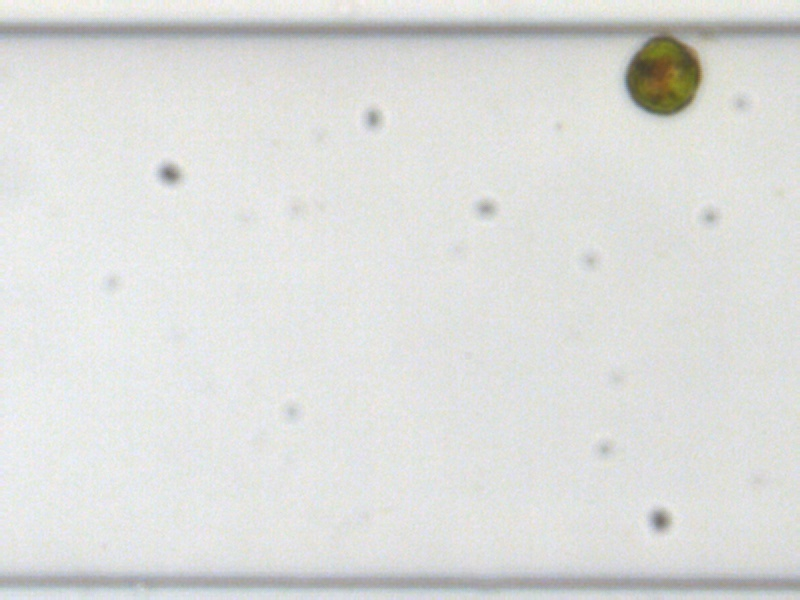Haematococcus: (617, 32, 703, 117)
